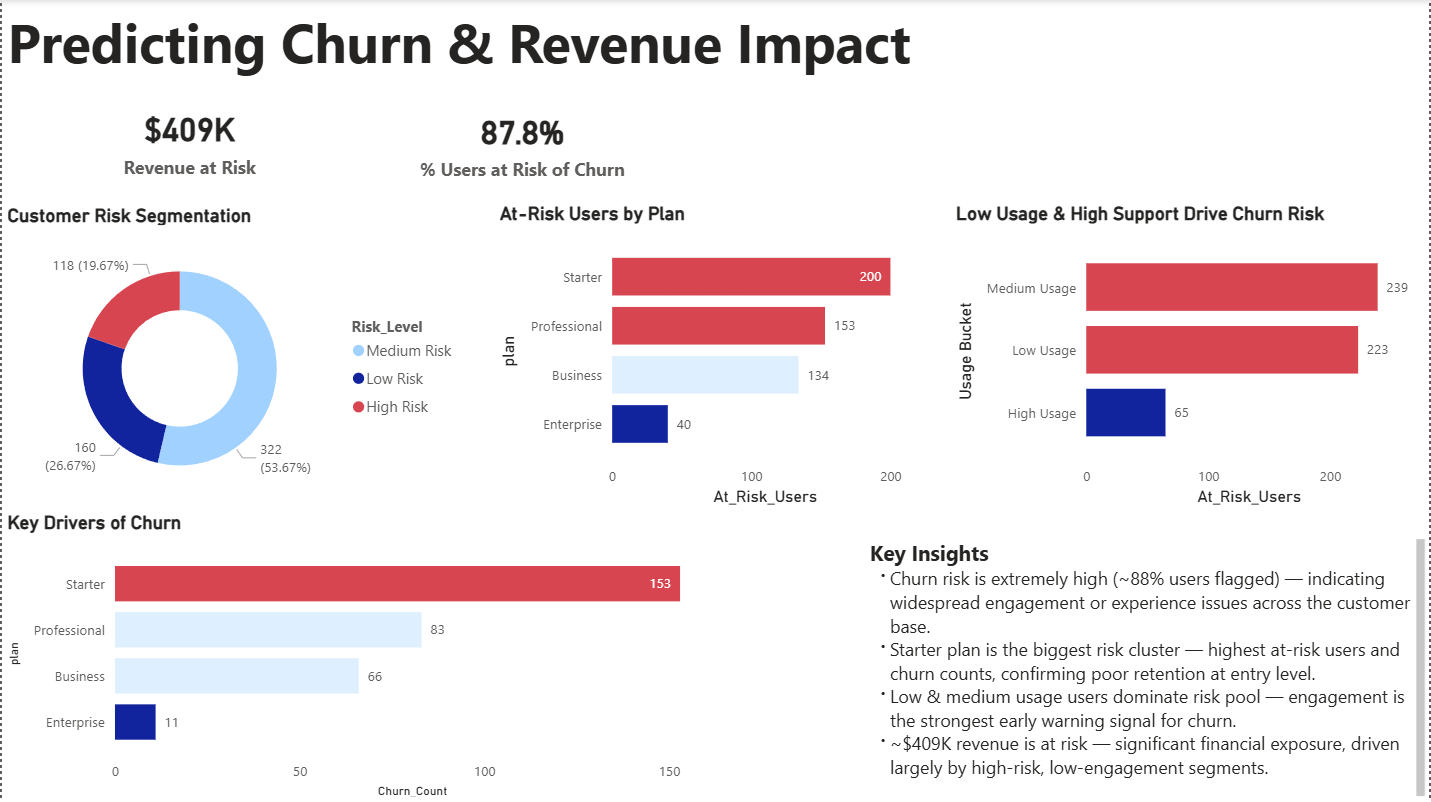

This screenshot's page, from the dashboard's own definition file:
{"tool":"powerbi","page":{"name":"Risk & Impact","canvas":[1280,720],"ordinal":4},"visuals":[{"type":"card","fields":{"Values":["subscriptions_clean.At_Risk_%"]},"box":[336.2,70,260.5,116.3],"z":0},{"type":"barChart","title":"Key Drivers of Churn","fields":{"Category":["cac.plan"],"Y":["Measures (2).Churn_Count"]},"box":[0,459.5,650,260.5],"z":1},{"type":"card","fields":{"Values":["Measures (2).Revenue_at_Risk"]},"box":[0,70,336.2,112.1],"z":2},{"type":"donutChart","title":"Customer Risk Segmentation","fields":{"Category":["subscriptions_clean.Risk_Level"],"Y":["CountNonNull(subscriptions_clean.customer_id)"]},"box":[0,183.5,417.4,276],"z":3},{"type":"barChart","title":"At-Risk Users by Plan","fields":{"Y":["Measures (2).At_Risk_Users"],"Category":["cac.plan"]},"box":[441.2,182.1,395,277.4],"z":4},{"type":"barChart","title":"Low Usage & High Support Drive Churn Risk","fields":{"Category":["subscriptions_clean.Usage Bucket"],"Y":["Measures (2).At_Risk_Users"]},"box":[850.3,182.1,428.6,277.4],"z":5},{"type":"textbox","box":[0,0,835.8,85.3],"z":6},{"type":"textbox","box":[773.2,479.1,507.1,240.9],"z":7}]}

Visuals, with their boxes in screenshot pixels (x1, y1, x2, y2), scaled from the page's 1280x720 canvas onto the 1431x802 screenshot:
card - subscriptions_clean.At_Risk_%: [376, 78, 667, 208]
"Key Drivers of Churn" barChart: [0, 512, 727, 801]
card - Measures (2).Revenue_at_Risk: [0, 78, 376, 203]
"Customer Risk Segmentation" donutChart: [0, 204, 467, 512]
"At-Risk Users by Plan" barChart: [493, 203, 935, 512]
"Low Usage & High Support Drive Churn Risk" barChart: [951, 203, 1430, 512]
textbox: [0, 0, 934, 95]
textbox: [864, 534, 1430, 801]
